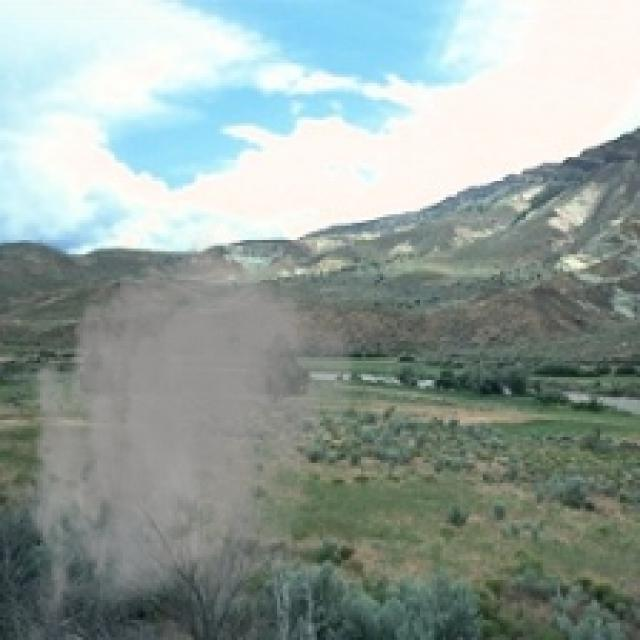smoke: (9, 223, 368, 637)
